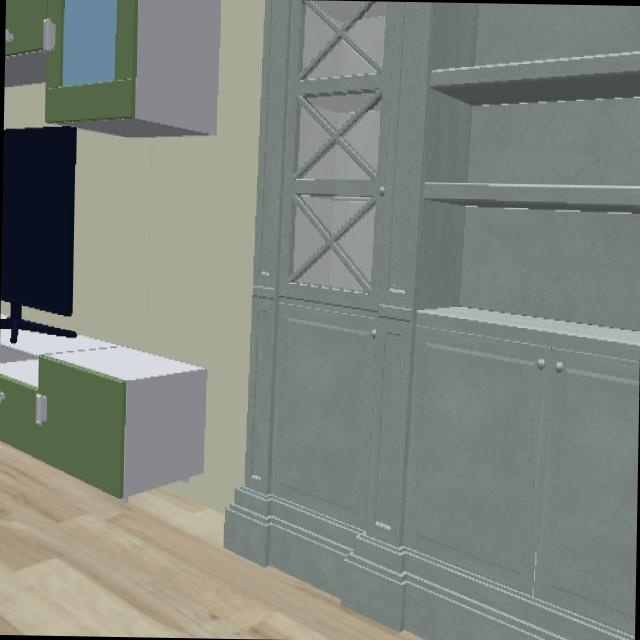bookshelf: (223, 0, 640, 640)
cabinet: (0, 329, 204, 500), (4, 0, 222, 136)
monitor: (0, 126, 77, 317)
